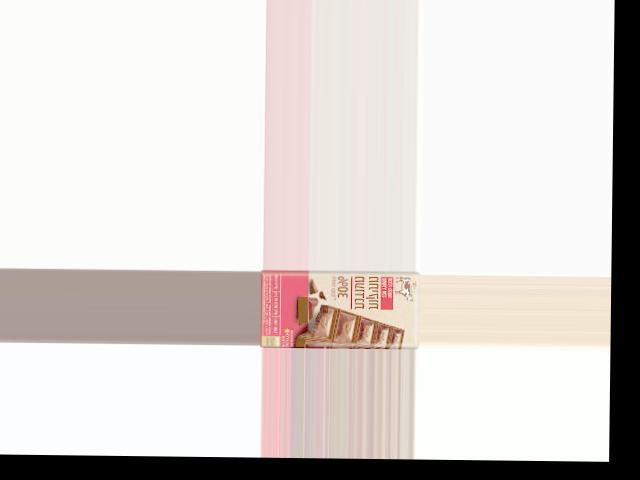chocolate: (261, 269, 420, 349)
